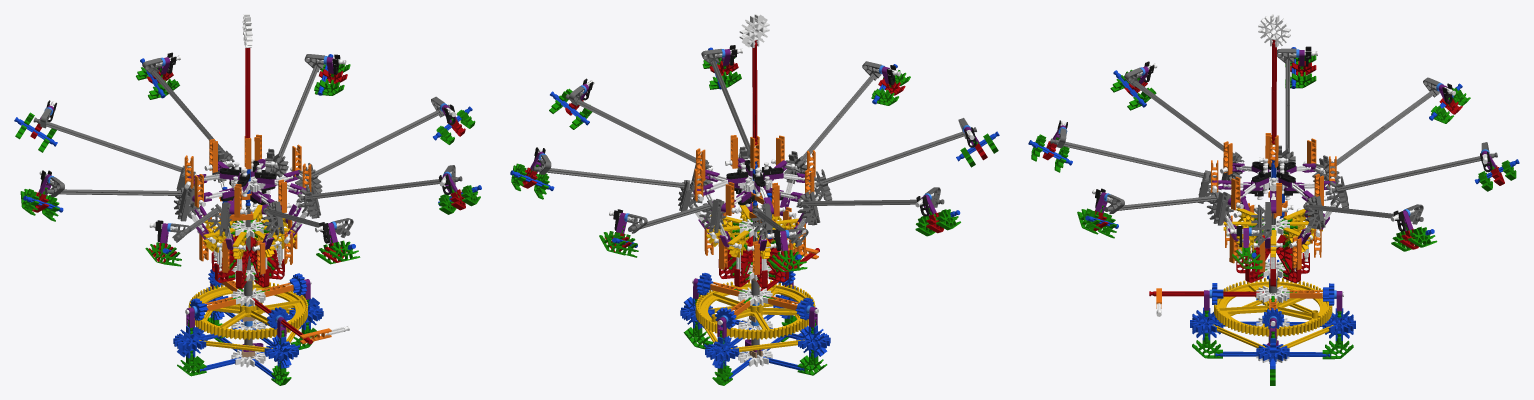
The picture shows the model from 3 angles, left to right: view 1: azimuth 30°, elevation 25°; view 2: azimuth 150°, elevation 25°; view 3: azimuth 270°, elevation 25°; orthographic projection.
Parts seen in each view (by area): view 1: B1_L12.007, B1_L12.003, B1_L12.001, B1_L12.002, B1_L12.004, B1_L12.010, B1_L12.009, B1_L12.005, B1_L12.011; view 2: B1_L12.007, B1_L12.003, B1_L12.001, B1_L12.004, B1_L12.002, B1_L12.010, B1_L12.009, B1_L12.005, B1_L12.011; view 3: B1_L12.007, B1_L12.004, B1_L12.003, B1_L12.001, B1_L12.002, B1_L12.010, B1_L12.009, B1_L12.005, B1_L12.011.
Part boxes in pixels (x1=…): B1_L12.007: x1=33, y1=54, x2=462, y2=345; B1_L12.003: x1=15, y1=64, x2=480, y2=385; B1_L12.001: x1=39, y1=14, x2=456, y2=367; B1_L12.002: x1=14, y1=54, x2=481, y2=379; B1_L12.004: x1=188, y1=204, x2=307, y2=351; B1_L12.010: x1=184, y1=134, x2=331, y2=343; B1_L12.009: x1=30, y1=48, x2=465, y2=344; B1_L12.005: x1=38, y1=57, x2=457, y2=351; B1_L12.011: x1=40, y1=52, x2=455, y2=243; B1_L12.007: x1=532, y1=49, x2=976, y2=355; B1_L12.003: x1=511, y1=57, x2=998, y2=385; B1_L12.001: x1=535, y1=14, x2=974, y2=366; B1_L12.004: x1=695, y1=205, x2=815, y2=351; B1_L12.002: x1=510, y1=47, x2=999, y2=378; B1_L12.010: x1=694, y1=135, x2=818, y2=315; B1_L12.009: x1=522, y1=40, x2=987, y2=290; B1_L12.005: x1=530, y1=49, x2=979, y2=352; B1_L12.011: x1=534, y1=45, x2=976, y2=250; B1_L12.007: x1=1050, y1=48, x2=1497, y2=342; B1_L12.004: x1=1212, y1=208, x2=1333, y2=348; B1_L12.003: x1=1031, y1=55, x2=1516, y2=385; B1_L12.001: x1=1060, y1=14, x2=1487, y2=363; B1_L12.002: x1=1028, y1=47, x2=1519, y2=369; B1_L12.010: x1=1156, y1=133, x2=1336, y2=310; B1_L12.009: x1=1042, y1=39, x2=1504, y2=296; B1_L12.005: x1=1052, y1=50, x2=1496, y2=346; B1_L12.011: x1=1057, y1=46, x2=1492, y2=247.
Size of the model in its own units: 5.29 by 4.07 by 5.29.
